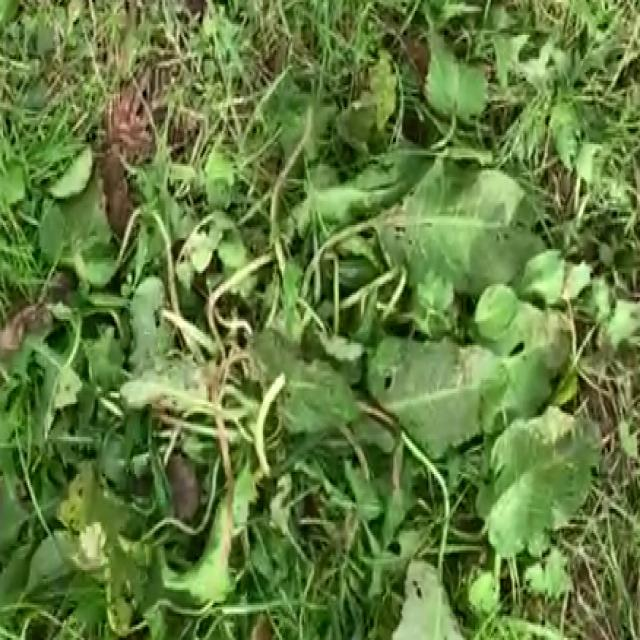organic waste: (18, 67, 628, 640)
